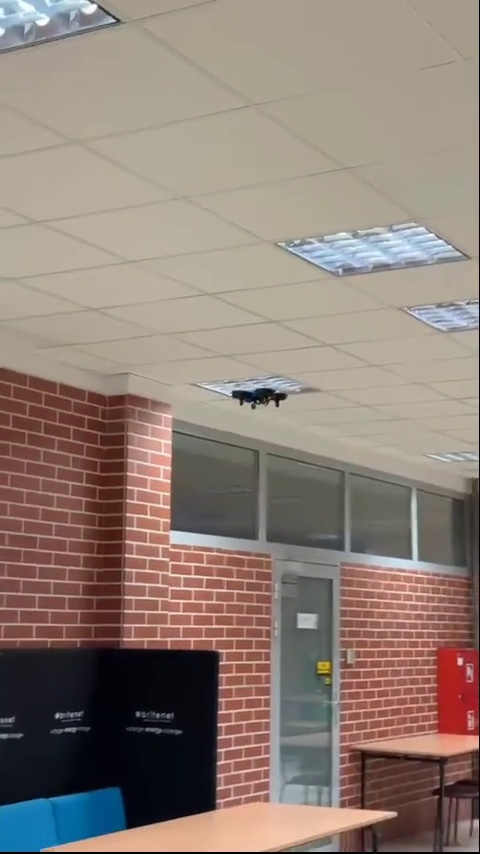drone: (230, 386, 287, 412)
